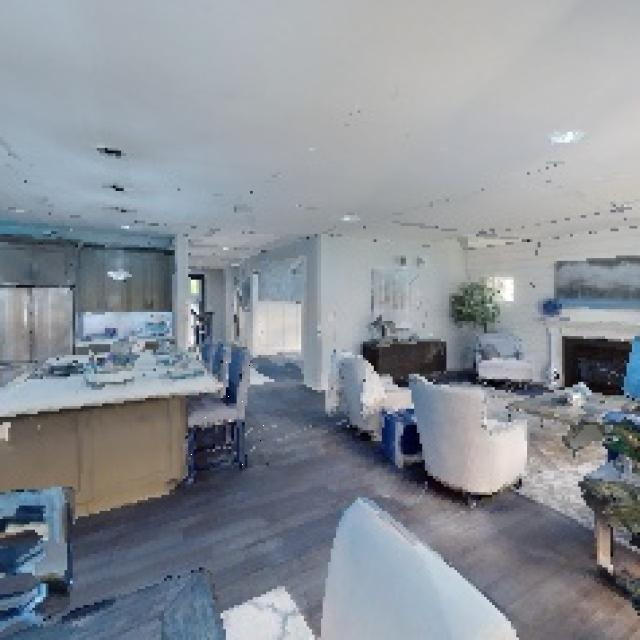chair: (176, 329, 266, 477)
sofa: (410, 368, 537, 505)
